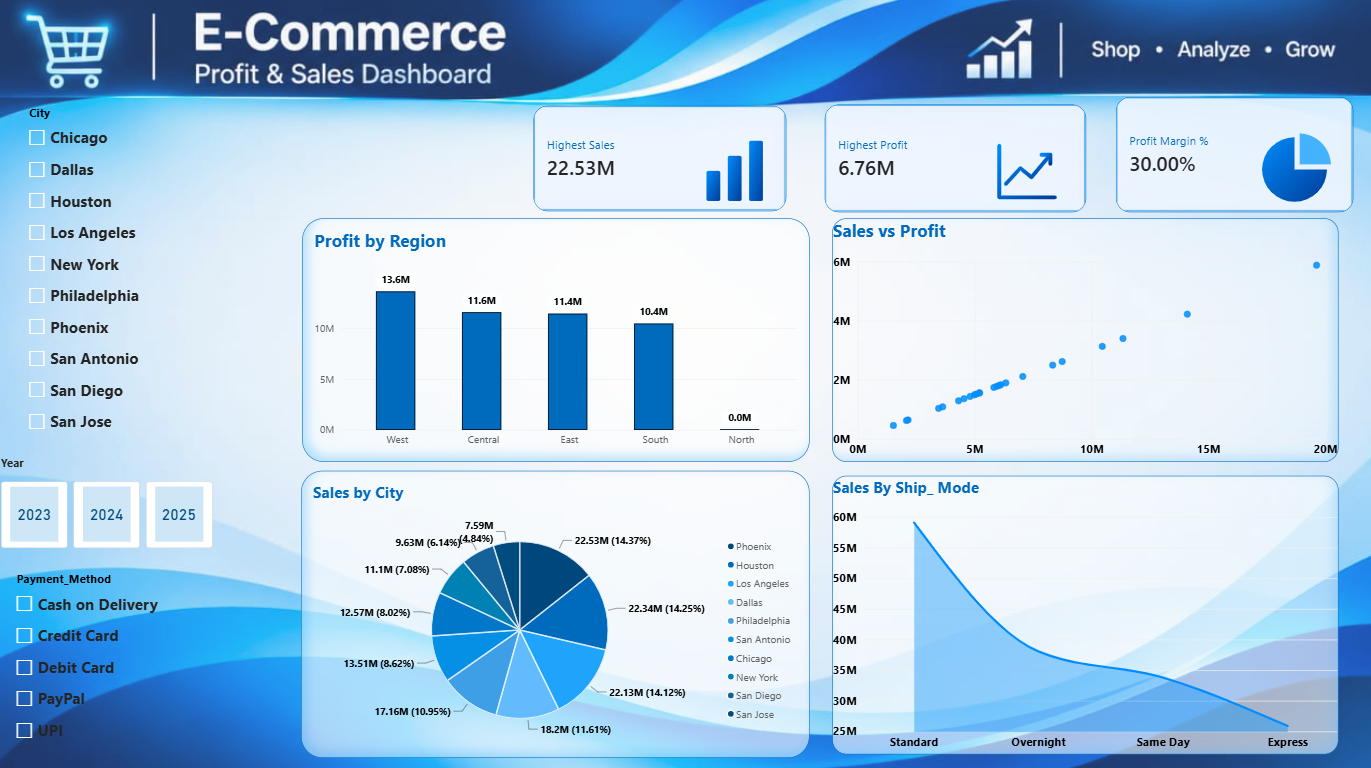

The dashboard page shown, as its layout file describes it:
{"tool":"powerbi","page":{"name":"Regional & Profit Analysis Dashboard","canvas":[1920,1080],"ordinal":3},"visuals":[{"type":"cardVisual","fields":{"Data":["ecommerce_sales_dataset.Highest Sales"]},"box":[750,151.7,352.7,147.1],"z":0},{"type":"cardVisual","fields":{"Data":["ecommerce_sales_dataset.Highest Profit"]},"box":[1156.4,150,364.5,150],"z":1000},{"type":"cardVisual","fields":{"Data":["ecommerce_sales_dataset.Profit Margin"]},"box":[1562.8,139.5,331.4,160.5],"z":2000},{"type":"pieChart","title":" Sales by City","fields":{"Category":["ecommerce_sales_dataset.City"],"Y":["Sum(ecommerce_sales_dataset.Sales)"]},"box":[425.6,661,709.9,401.2],"z":3000},{"type":"lineStackedColumnComboChart","title":"Profit by Region","fields":{"Category":["ecommerce_sales_dataset.Region"],"Y":["ecommerce_sales_dataset.Total Profit"]},"box":[427.1,308.4,708.1,340.1],"z":4000},{"type":"scatterChart","title":"Sales vs Profit","fields":{"Category":["ecommerce_sales_dataset.Product_Name"],"X":["Sum(ecommerce_sales_dataset.Sales)"],"Y":["Sum(ecommerce_sales_dataset.Profit)"]},"box":[1166.9,308.7,706.4,340.1],"z":5000},{"type":"slicer","fields":{"Values":["ecommerce_sales_dataset.City"]},"box":[38.4,150,233.7,488.4],"z":6000},{"type":"areaChart","title":"   Sales By Ship_ Mode","fields":{"Category":["ecommerce_sales_dataset.Ship_Mode"],"Y":["Sum(ecommerce_sales_dataset.Sales)"]},"box":[1167.3,667.5,706.4,389],"z":7000},{"type":"advancedSlicerVisual","fields":{"Values":["ecommerce_sales_dataset.Order_Date.Variation.Date Hierarchy.Year"]},"box":[7,638.4,296.5,130.8],"z":8000},{"type":"slicer","fields":{"Values":["ecommerce_sales_dataset.Payment_Method"]},"box":[20.9,800.6,294.8,261.6],"z":9000},{"type":"image","box":[944.3,186.6,175.6,112.3],"z":9001},{"type":"image","box":[1716.2,183.5,191.4,115.5],"z":9002},{"type":"image","box":[1366.6,193,142.4,99.6],"z":9003}]}

Visuals, with their boxes in screenshot pixels (x1, y1, x2, y2), scaled from the page's 1920x1080 canvas onto the 1371x768 screenshot:
cardVisual - ecommerce_sales_dataset.Highest Sales: (x1=536, y1=108, x2=787, y2=212)
cardVisual - ecommerce_sales_dataset.Highest Profit: (x1=826, y1=107, x2=1086, y2=213)
cardVisual - ecommerce_sales_dataset.Profit Margin: (x1=1116, y1=99, x2=1353, y2=213)
" Sales by City" pieChart: (x1=304, y1=470, x2=811, y2=755)
"Profit by Region" lineStackedColumnComboChart: (x1=305, y1=219, x2=811, y2=461)
"Sales vs Profit" scatterChart: (x1=833, y1=220, x2=1338, y2=461)
slicer - ecommerce_sales_dataset.City: (x1=27, y1=107, x2=194, y2=454)
"   Sales By Ship_ Mode" areaChart: (x1=834, y1=475, x2=1338, y2=751)
advancedSlicerVisual - ecommerce_sales_dataset.Order_Date.Variation.Date Hierarchy.Year: (x1=5, y1=454, x2=217, y2=547)
slicer - ecommerce_sales_dataset.Payment_Method: (x1=15, y1=569, x2=225, y2=755)
image: (x1=674, y1=133, x2=800, y2=213)
image: (x1=1225, y1=130, x2=1362, y2=213)
image: (x1=976, y1=137, x2=1078, y2=208)
